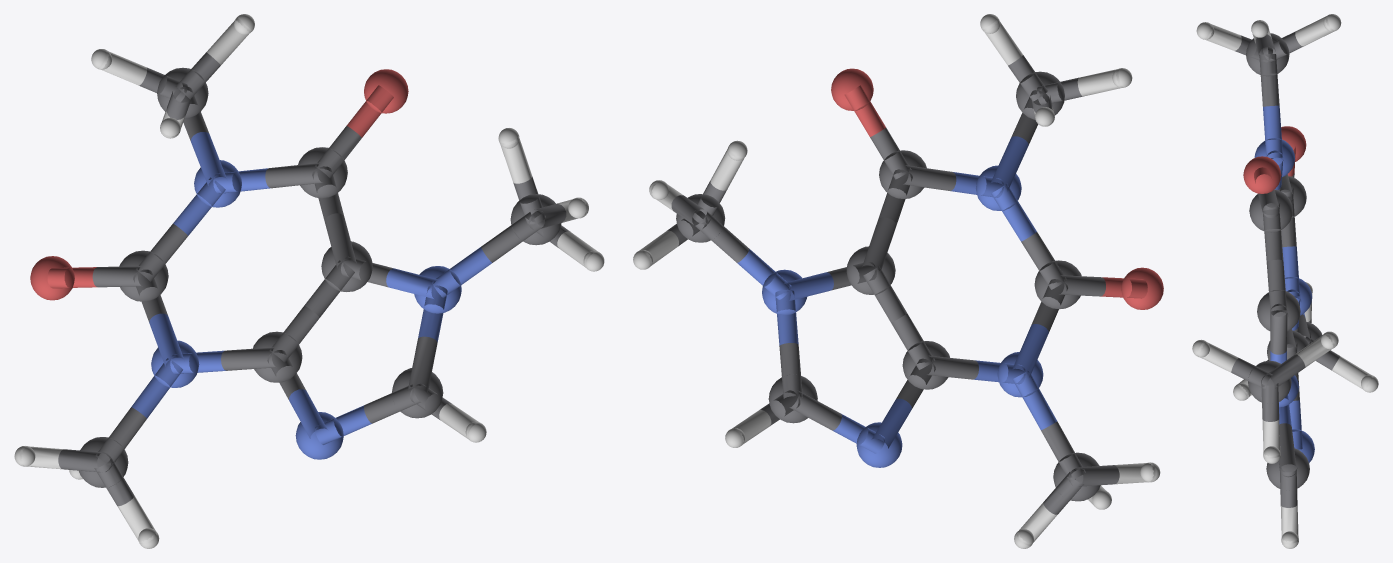
File: caffeine-fixed-normals.glb
3 renders of one model, left to right at view 1: azimuth 30°, elevation 25°; view 2: azimuth 150°, elevation 25°; view 3: azimuth 270°, elevation 25°, orthographic. The views are drawn at different scales.
Parts seen in each view (by area): view 1: caffeine; view 2: caffeine; view 3: caffeine.
Boxes of the visible parts, box(x1,y1,x2,y2) form: caffeine: box(14, 14, 604, 548); caffeine: box(633, 14, 1163, 548); caffeine: box(1192, 14, 1378, 548).
Size of the model in its own units: 7.74 by 6.52 by 2.59.
